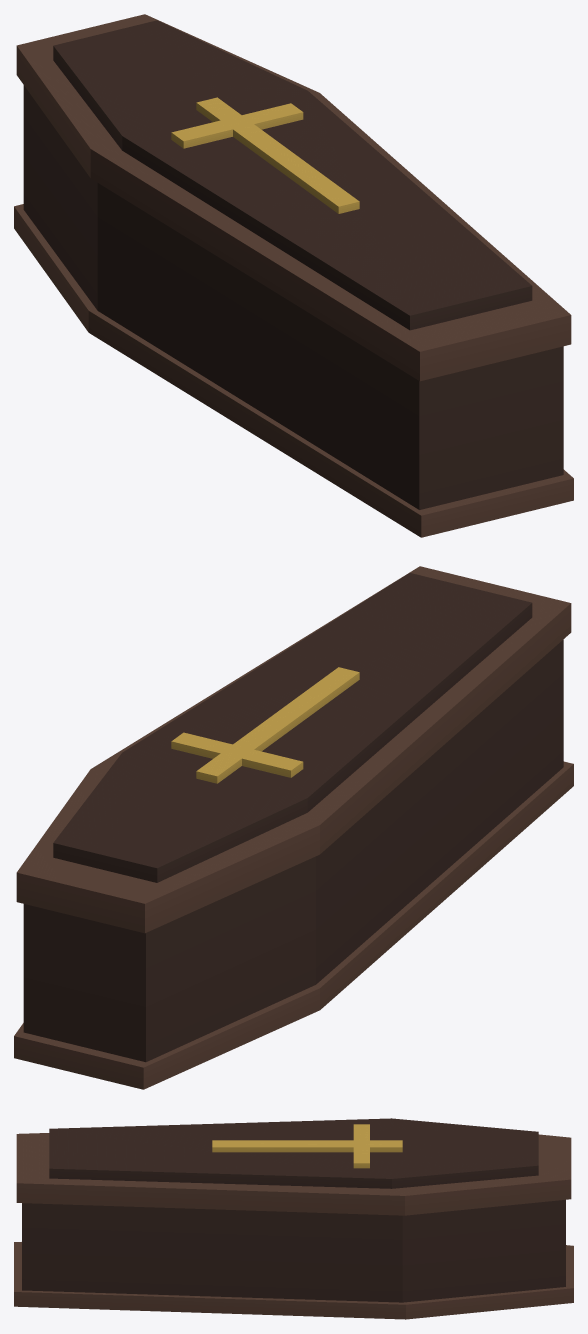
Rendered from caixao.glb.
3 views of the same model, one above another, from view 1: azimuth 30°, elevation 25°; view 2: azimuth 150°, elevation 25°; view 3: azimuth 270°, elevation 25° (orthographic). The views are drawn at different scales.
Parts seen in each view (by area): view 1: coffin_lid, coffin; view 2: coffin_lid, coffin; view 3: coffin, coffin_lid.
Part boxes in pixels (bbox=[...]): coffin_lid: bbox=[16, 14, 571, 381]; coffin: bbox=[14, 85, 573, 537]; coffin_lid: bbox=[16, 566, 571, 933]; coffin: bbox=[14, 639, 573, 1089]; coffin: bbox=[14, 1199, 573, 1319]; coffin_lid: bbox=[16, 1118, 571, 1215].
Bounding box in the file's own units: 0.6572 × 0.56 × 2.06.
1 material, 1 textured.
